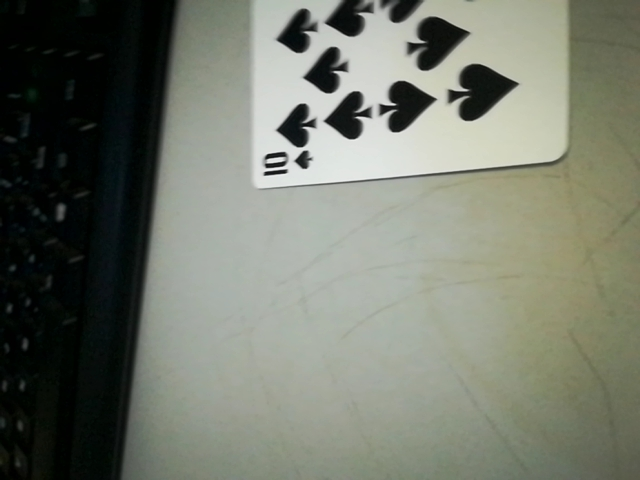ht 10: (251, 149, 327, 188)
